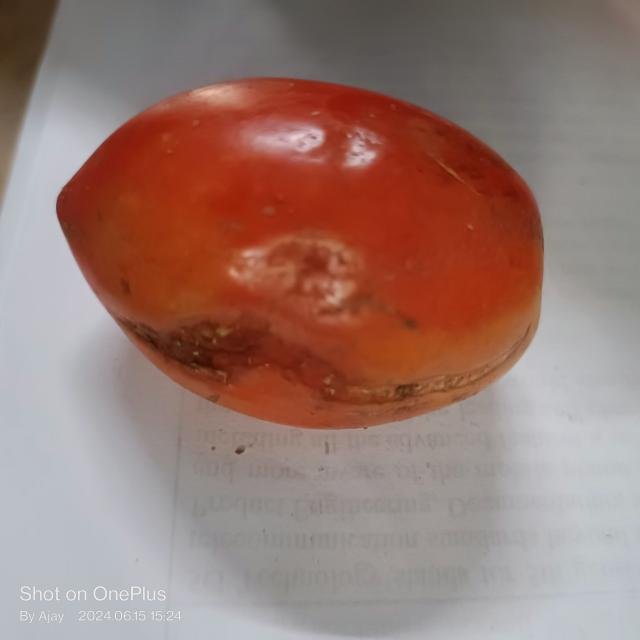tomato_cracking: (136, 313, 534, 412)
